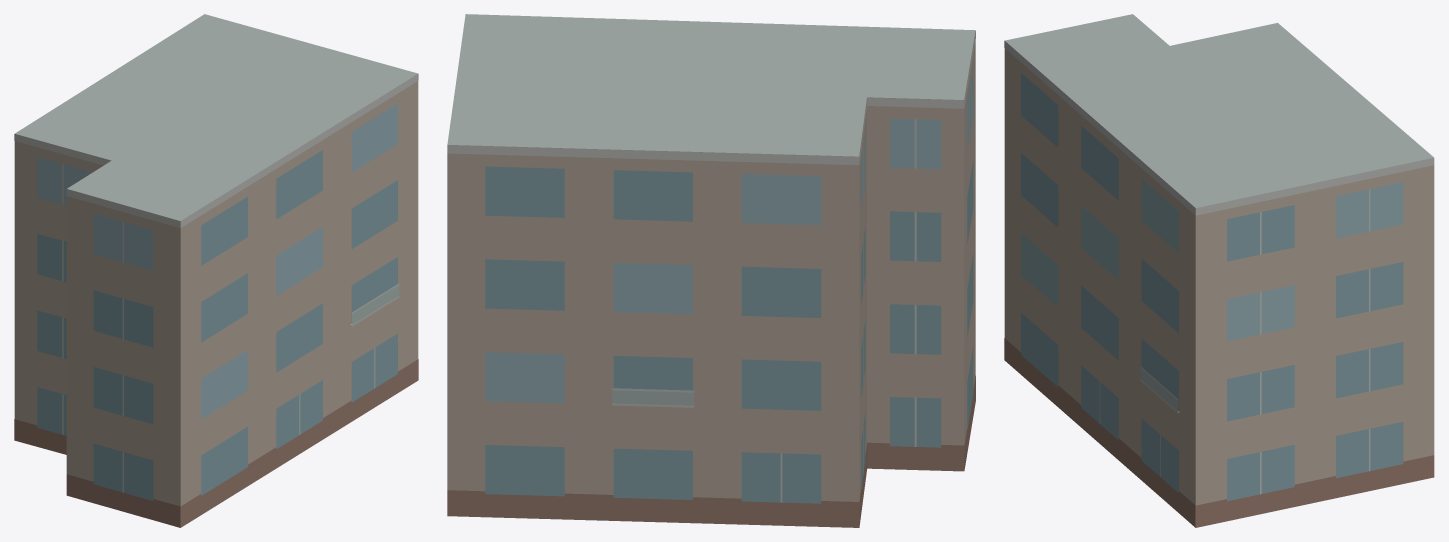
The model's file is survey-upis-32868721.glb.
The picture shows the model from 3 angles, left to right: view 1: azimuth 30°, elevation 25°; view 2: azimuth 150°, elevation 25°; view 3: azimuth 270°, elevation 25°; orthographic projection. The views are drawn at different scales.
Visible parts, largest first — view 1: survey-upis-32868721.tmp; view 2: survey-upis-32868721.tmp; view 3: survey-upis-32868721.tmp.
Part boxes in pixels (x1,y1,x2,y2): survey-upis-32868721.tmp: [14, 14, 418, 527]; survey-upis-32868721.tmp: [447, 14, 975, 527]; survey-upis-32868721.tmp: [1004, 14, 1434, 527].
Bounding box in the file's own units: 13.69 × 10.5 × 12.8.
